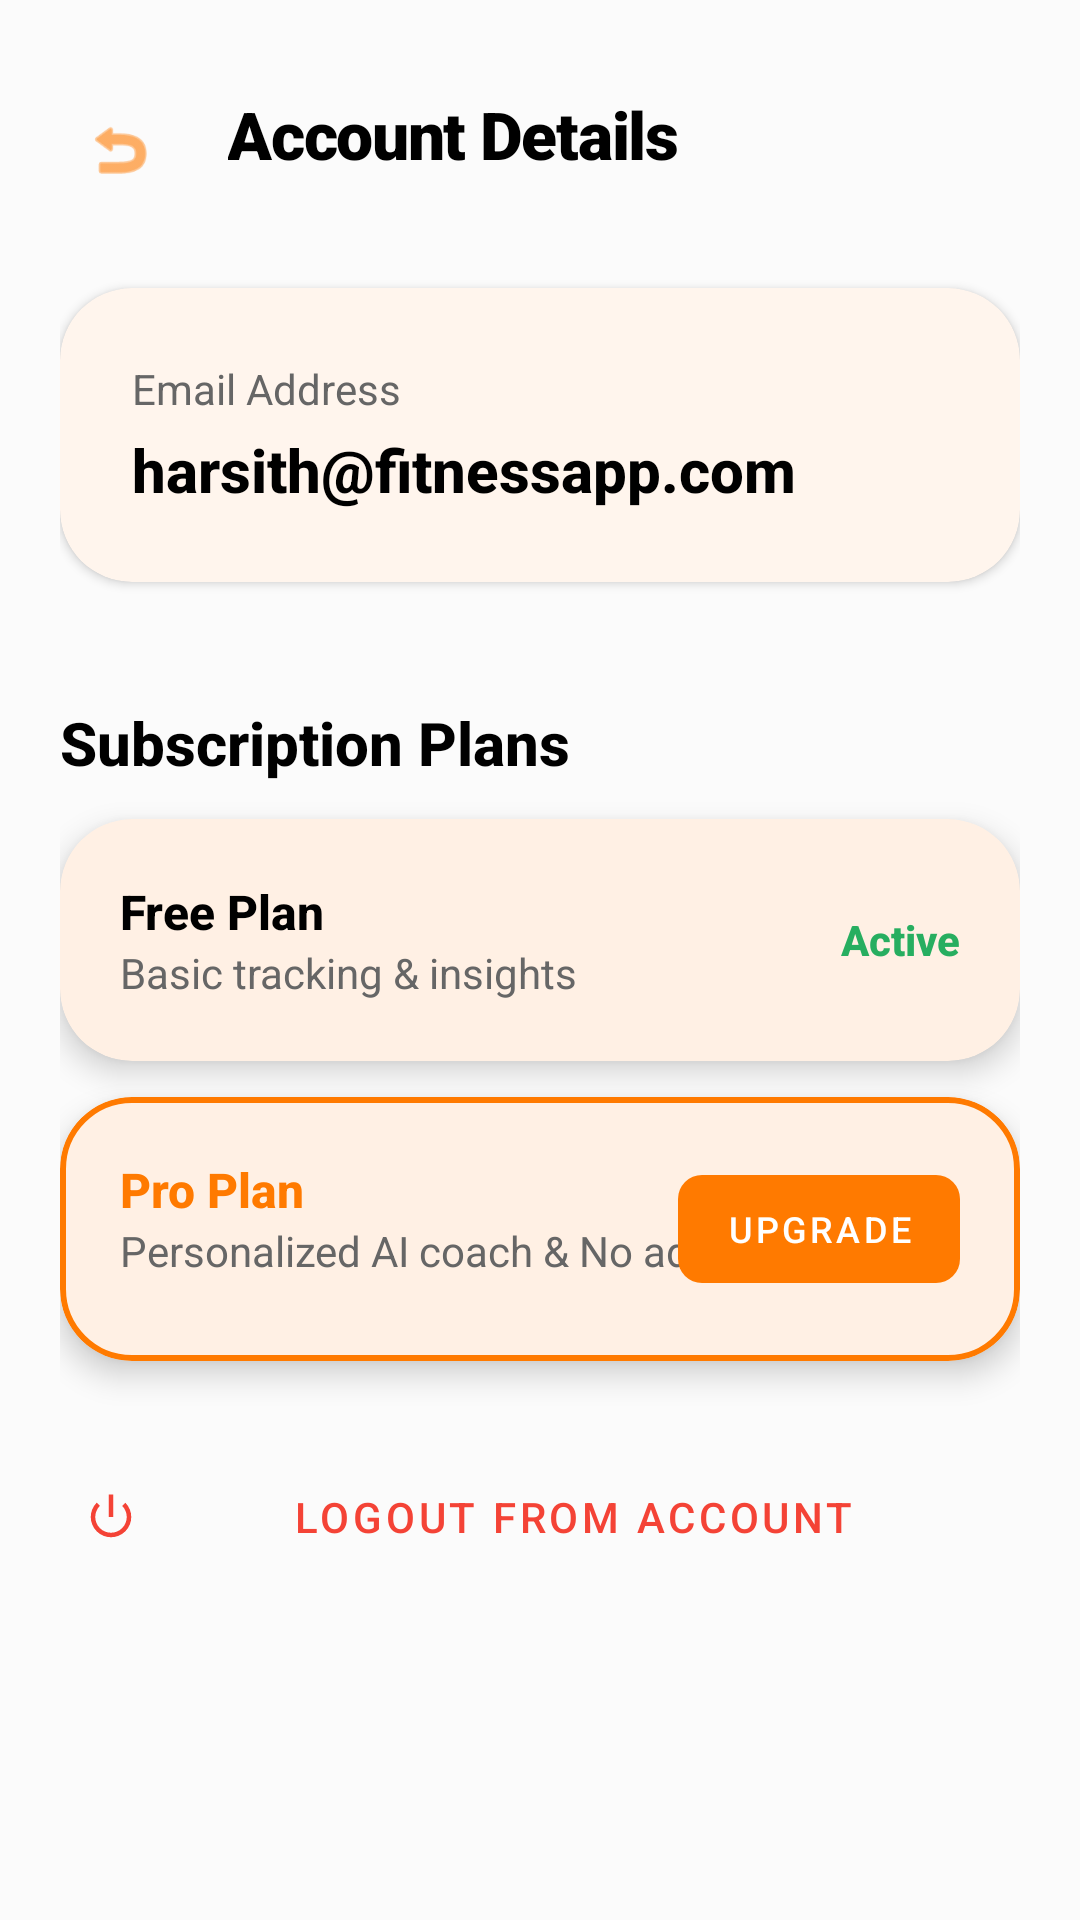

Icons on this 1080 x 1920 Android screen, each with its box as (x1, y1, x2, y2):
revert: (95, 127, 147, 174)
